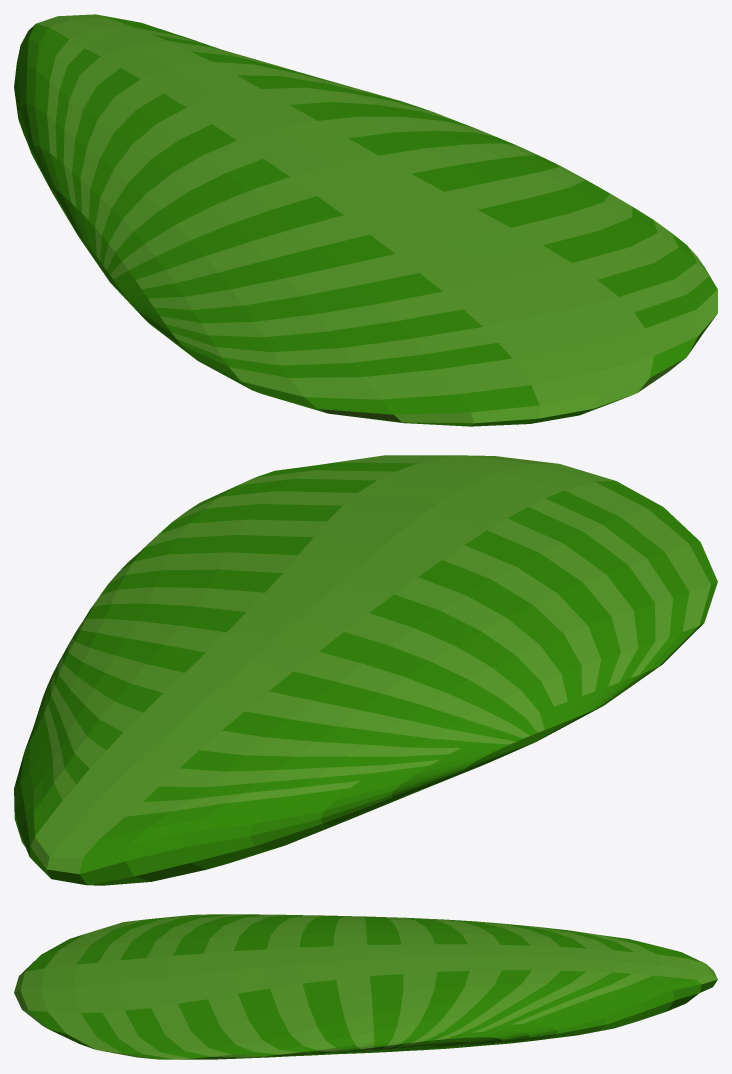
Rendered from leaf.glb.
3 views of the same model, one above another, from view 1: azimuth 30°, elevation 25°; view 2: azimuth 150°, elevation 25°; view 3: azimuth 270°, elevation 25° (orthographic). The views are drawn at different scales.
Visible parts, largest first — view 1: Sphere; view 2: Sphere; view 3: Sphere.
Boxes of the visible parts, x1=… form: Sphere: x1=14, y1=14, x2=717, y2=426; Sphere: x1=14, y1=455, x2=717, y2=885; Sphere: x1=14, y1=914, x2=717, y2=1059.
Bounding box in the file's own units: 0.5298 × 0.1041 × 1.03.
